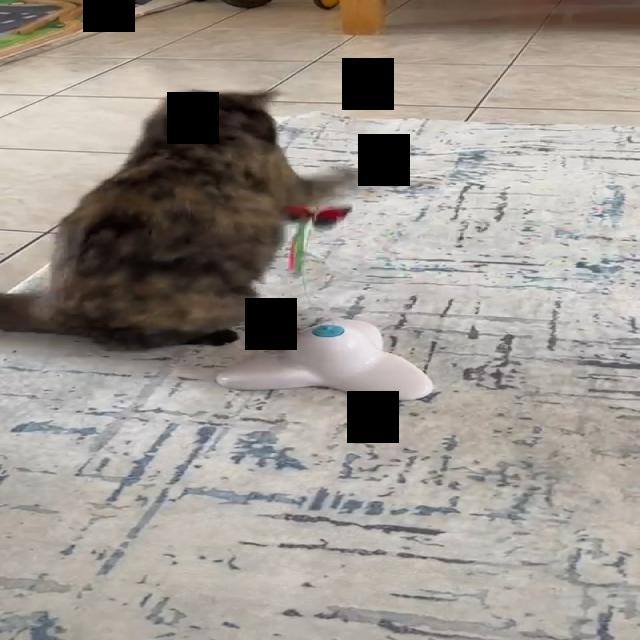authorized: (0, 88, 367, 350)
